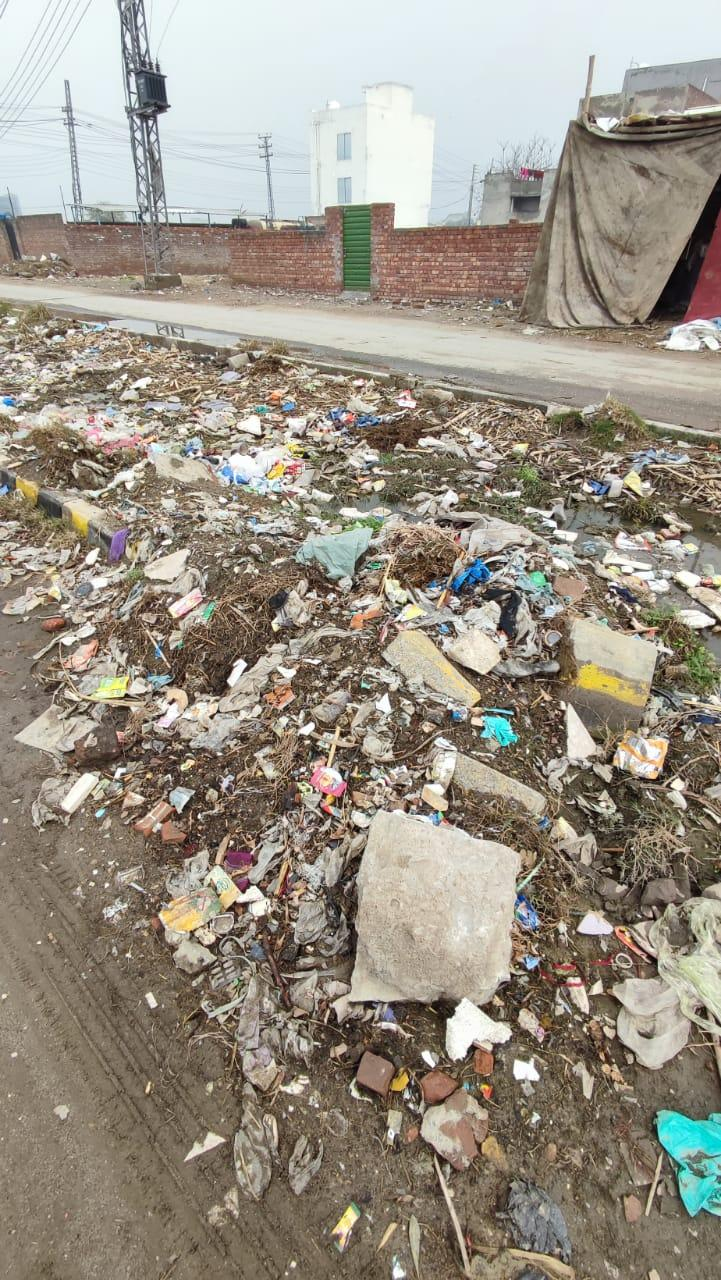garbage: (11, 353, 707, 1089)
